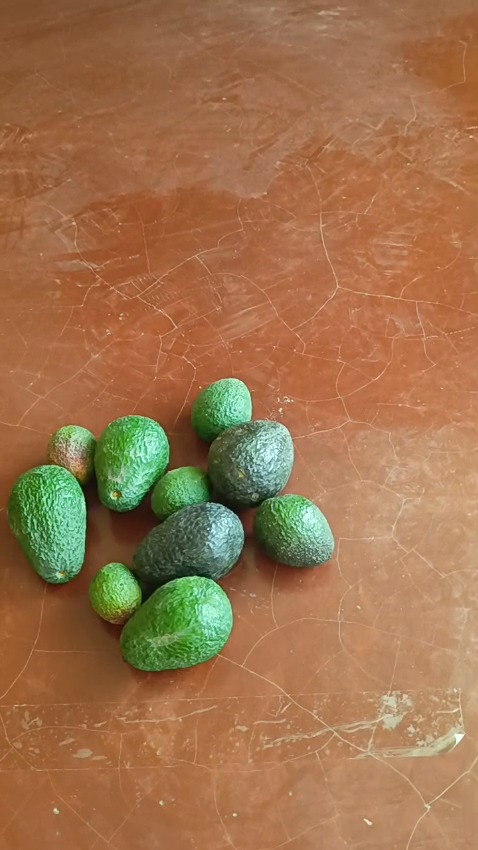Primera: (118, 573, 234, 669), (6, 464, 88, 582), (132, 502, 244, 588), (207, 420, 293, 507), (93, 416, 170, 512)
Segunda: (252, 493, 334, 567), (191, 378, 252, 442)
Tercera: (87, 562, 142, 624), (150, 466, 211, 519), (47, 424, 97, 485)
